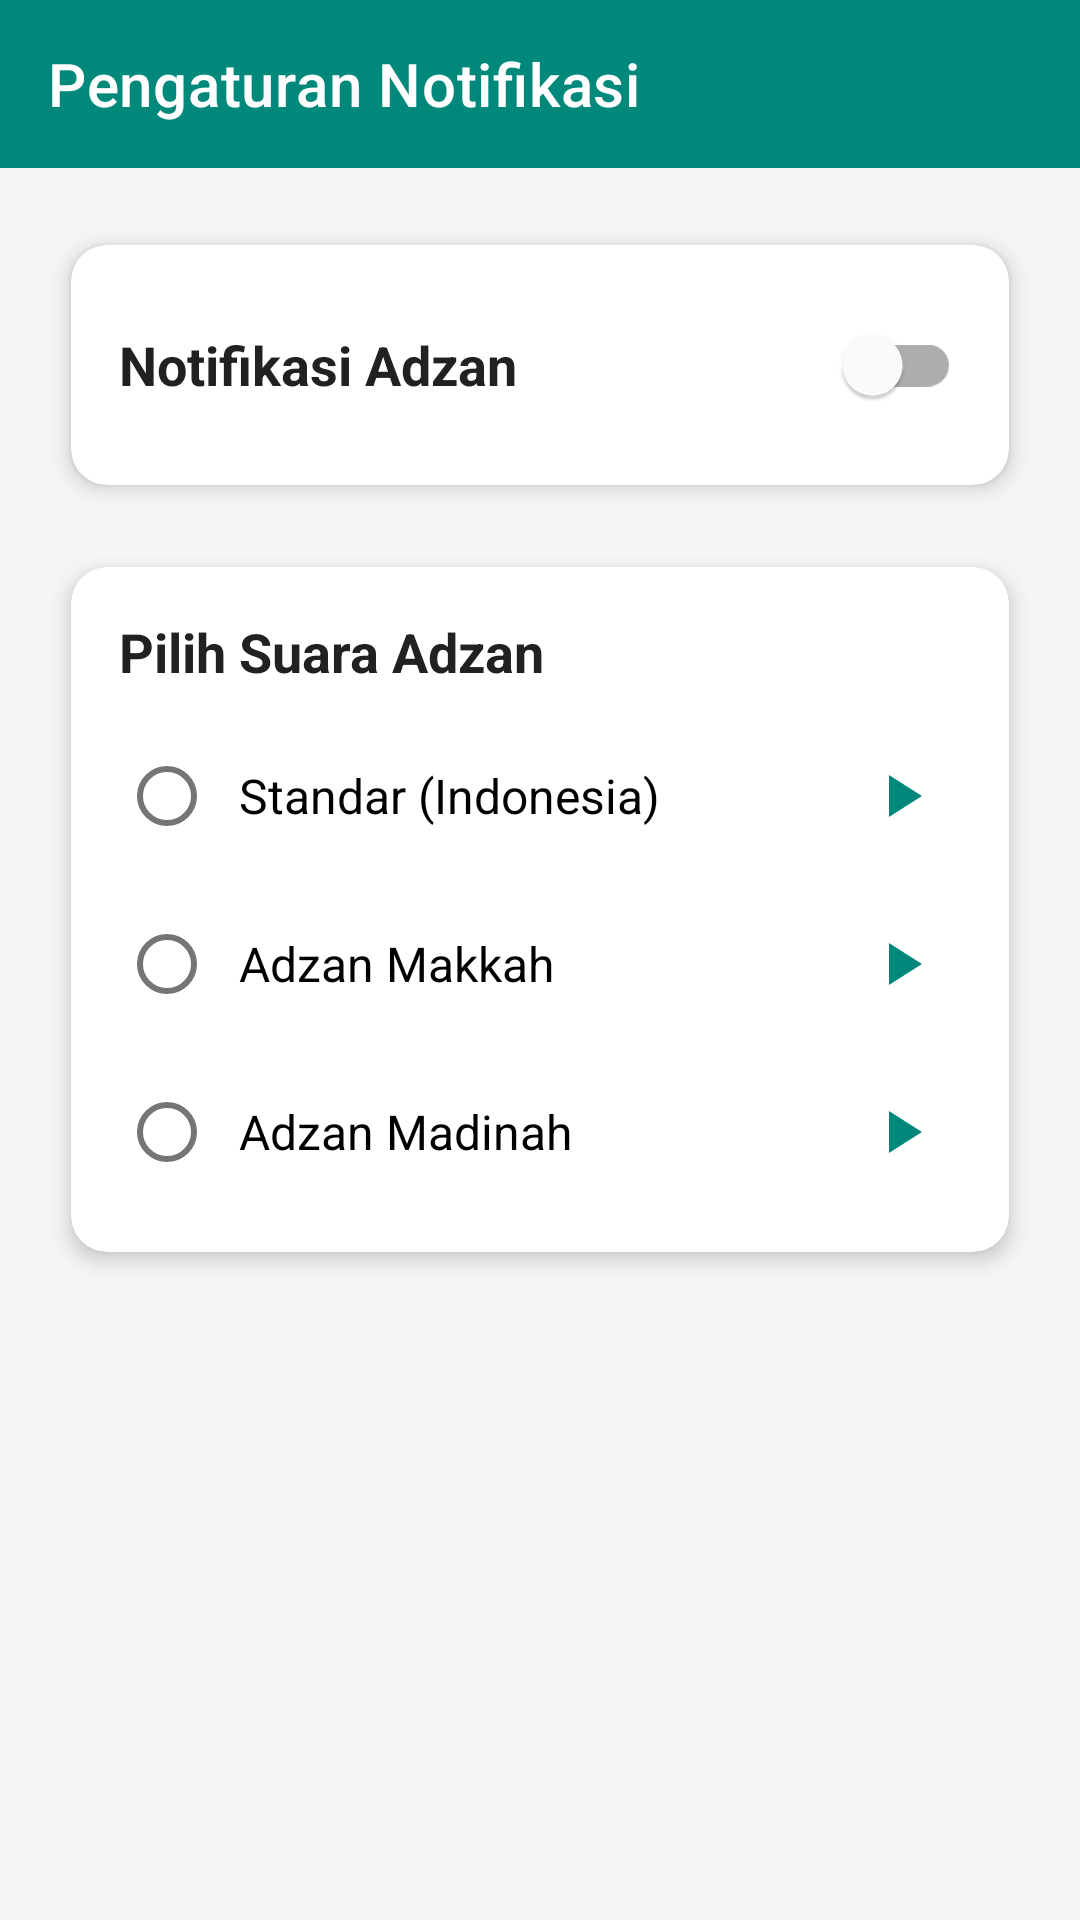

Icon click points for this 1080px×1920px phone screenshot, format point (x, y):
Putar Suara Madinah: point (905, 1132)
Putar Suara Makkah: point (905, 964)
Putar Suara Standar: point (905, 796)
